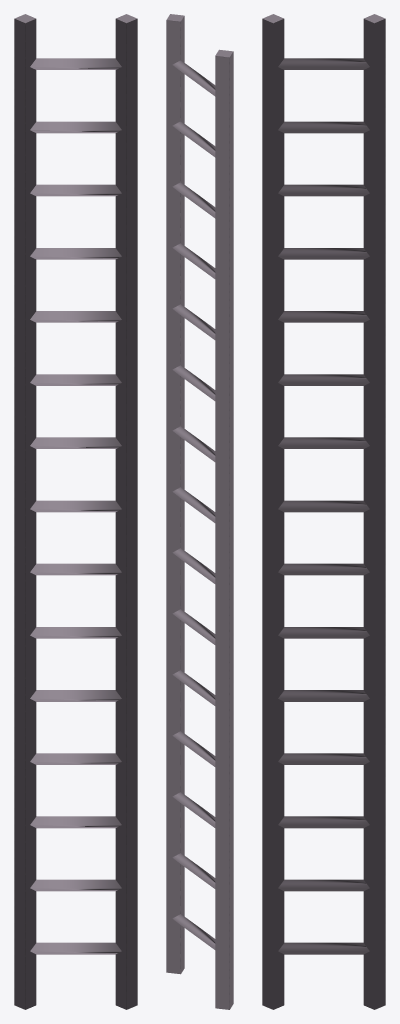
File: ladder.fbx
The picture shows the model from 3 angles, left to right: view 1: azimuth 90°, elevation 25°; view 2: azimuth 210°, elevation 25°; view 3: azimuth 270°, elevation 25°; orthographic projection. The views are drawn at different scales.
Visible parts, largest first — view 1: pCube20; view 2: pCube20; view 3: pCube20.
Part boxes in pixels (x1,y1,x2,y2): pCube20: [14, 14, 137, 1009]; pCube20: [166, 14, 233, 1009]; pCube20: [262, 14, 385, 1009].
Bounding box in the file's own units: 0.8233 × 40.51 × 4.59.
Materials: 1 (1 with a texture image).
